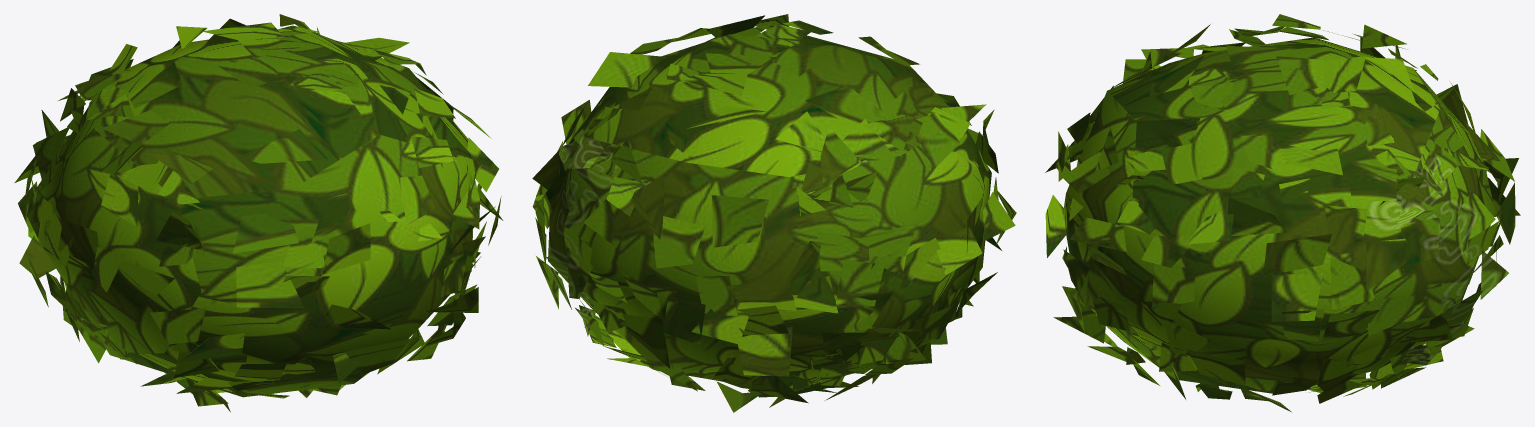
File: Arbusto.1_LOD.fbx
The picture shows the model from 3 angles, left to right: view 1: azimuth 30°, elevation 25°; view 2: azimuth 150°, elevation 25°; view 3: azimuth 270°, elevation 25°; orthographic projection.
Visible parts, largest first — view 1: Bush_LOD0; view 2: Bush_LOD0; view 3: Bush_LOD0.
Boxes of the visible parts, <box> form: Bush_LOD0: <box>14,14,503,412</box>; Bush_LOD0: <box>532,14,1016,412</box>; Bush_LOD0: <box>1045,14,1520,412</box>.
Size of what is drawn, in the model's own units: 355 by 260 by 352.
